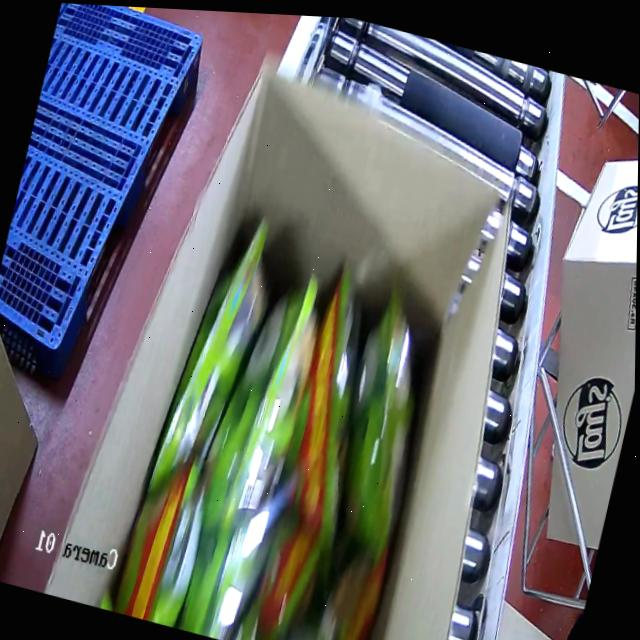YOGURT_HERB: (113, 232, 445, 640)
